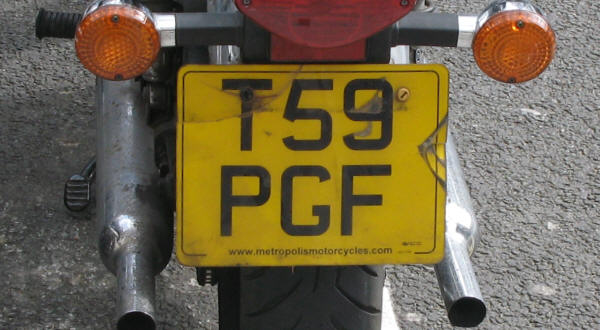license_plate: (175, 63, 448, 266)
